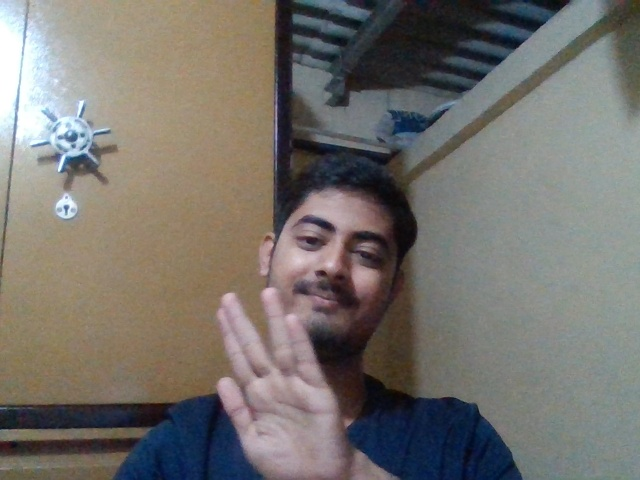LiveLong: (214, 286, 343, 478)
